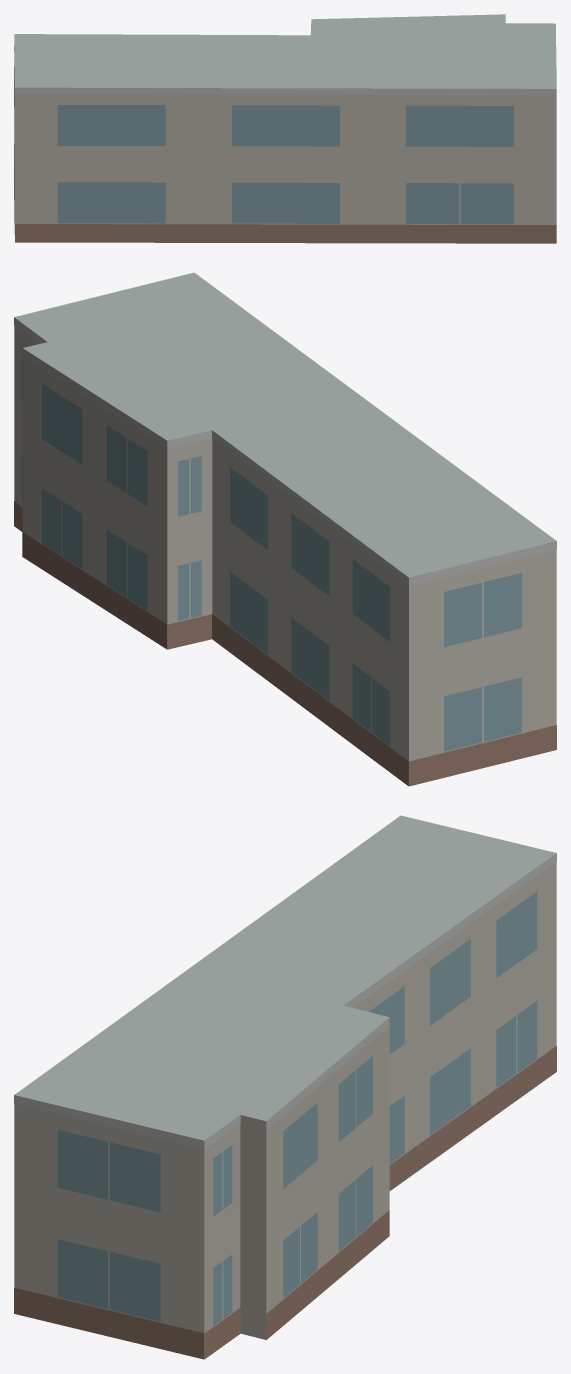
File: survey-upis-32827432.glb
3 views of the same model, one above another, from view 1: azimuth 30°, elevation 25°; view 2: azimuth 150°, elevation 25°; view 3: azimuth 270°, elevation 25° (orthographic). The views are drawn at different scales.
Visible parts, largest first — view 1: survey-upis-32827432.tmp; view 2: survey-upis-32827432.tmp; view 3: survey-upis-32827432.tmp.
Boxes of the visible parts, x1=… form: survey-upis-32827432.tmp: x1=14, y1=14, x2=556, y2=243; survey-upis-32827432.tmp: x1=14, y1=272, x2=556, y2=786; survey-upis-32827432.tmp: x1=14, y1=815, x2=556, y2=1359.
Size of the model in its own units: 19.46 by 6.1 by 13.72.
